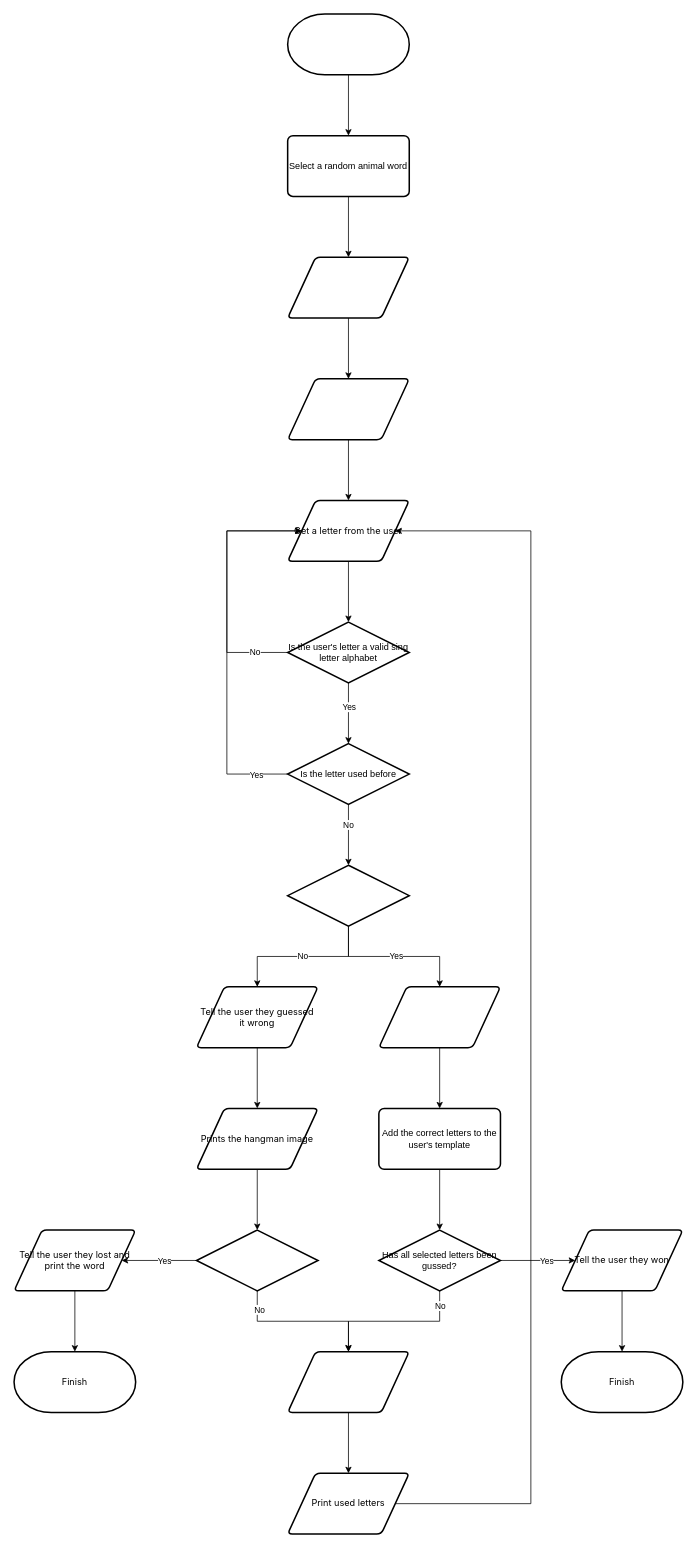
This 696x1547 diagram has some shape labels left out. Here are the shapes that lost their labels. From the top down, the centre of each, then its label:
At (348,44): "Start".
At (348,287): "Print the title, description, and an empty hangman".
At (348,409): "Print the user's empty word".
At (348,895): "Is the user's letter present in the hangman word".
At (439,1017): "Tell the user they guessed the letter correctly".
At (256,1260): "Has the user guessed 6 letters wrong".
At (348,1382): "Print missed letters".
